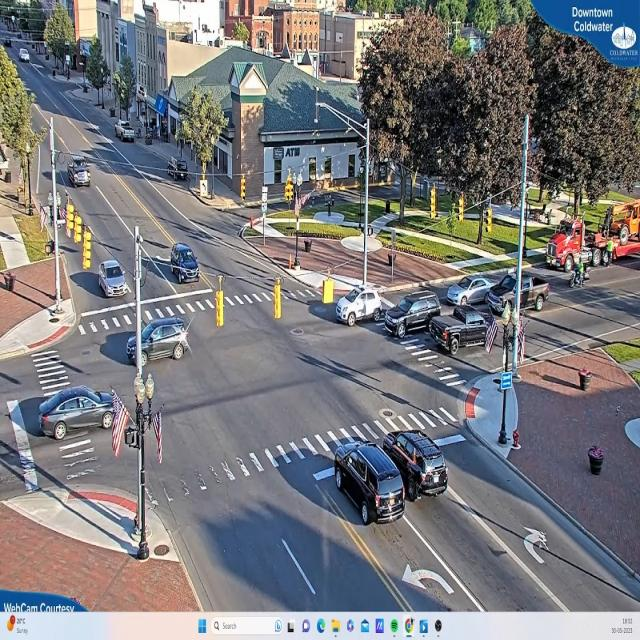car: (329, 438, 410, 527), (36, 384, 117, 440), (385, 431, 449, 497), (128, 318, 192, 368), (382, 293, 441, 337), (487, 274, 550, 314), (429, 313, 490, 352), (337, 286, 386, 327), (446, 273, 491, 305), (97, 259, 130, 298), (170, 244, 201, 282), (117, 122, 137, 144), (72, 166, 92, 187)
